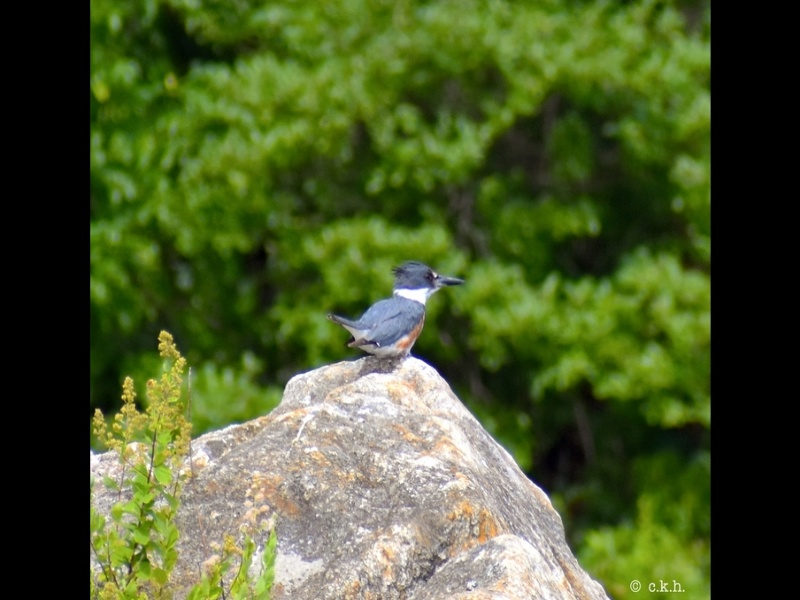kingfisher: (330, 258, 466, 370)
